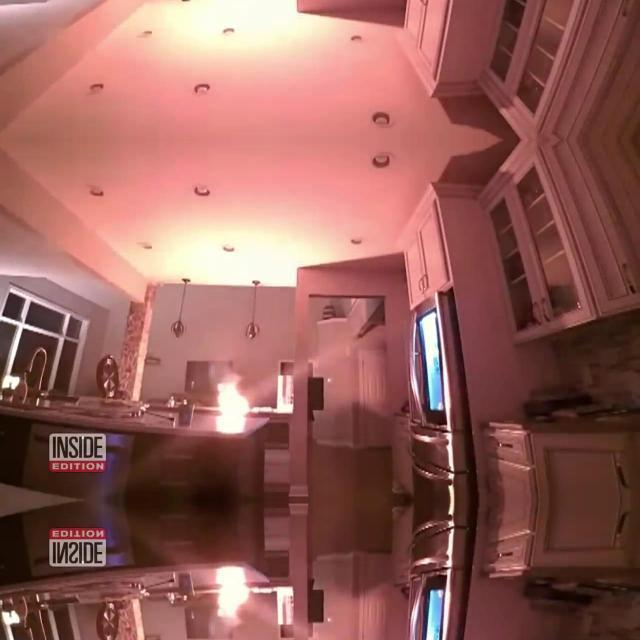smoke: (214, 370, 252, 436), (214, 564, 252, 630)
